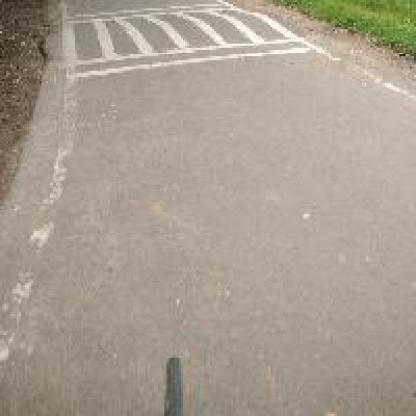Speed Bump: (60, 0, 310, 86)
